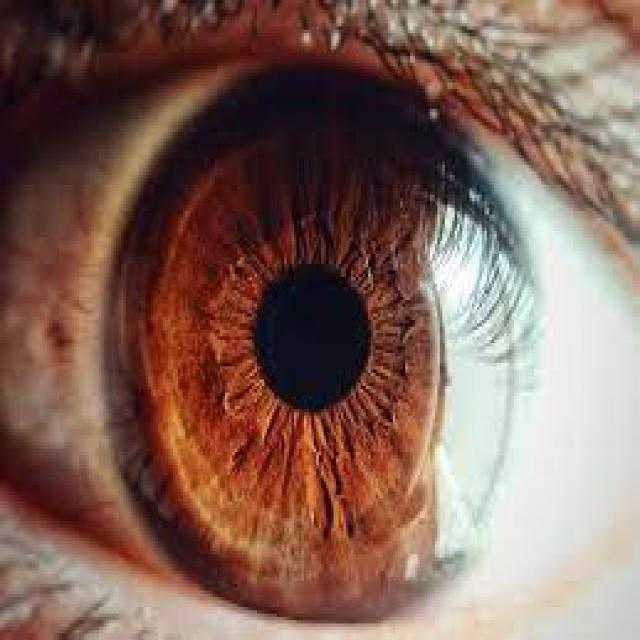Eyes-iris: (91, 35, 536, 634)
